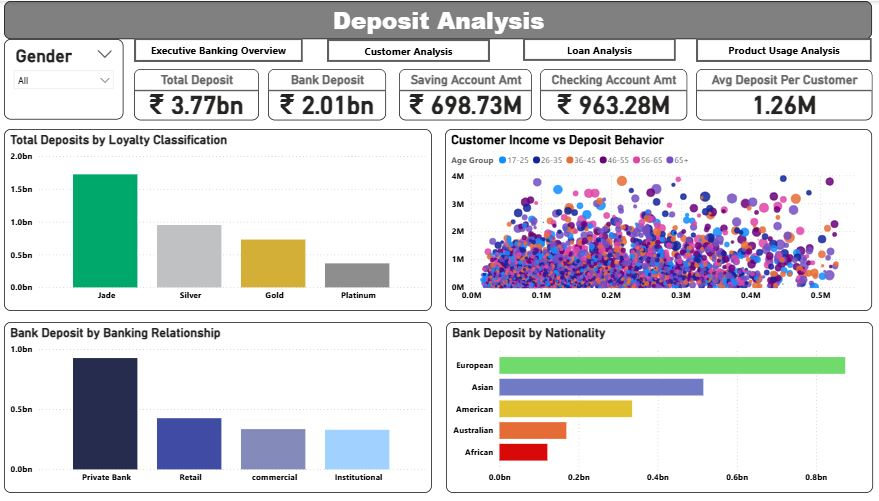

The dashboard page shown, as its layout file describes it:
{"tool":"powerbi","page":{"name":"Deposit Analysis","canvas":[1280,720],"ordinal":3},"visuals":[{"type":"textbox","title":"Deposit Analysis","box":[11.5,0,1249.9,54.7],"z":0},{"type":"card","title":"Total Deposit","fields":{"Values":["Banking.Total Deposits"]},"box":[198.7,97.9,179.7,73.9],"z":1000,"group":"g1"},{"type":"clusteredBarChart","title":"Bank Deposit by Nationality","fields":{"Category":["Banking.Nationality"],"Y":["Banking.Bank Deposits Amt"]},"box":[647.5,462.3,614.8,245.9],"z":1000},{"type":"clusteredColumnChart","title":"Bank Deposit by Banking Relationship","fields":{"Y":["Banking.Bank Deposits Amt"],"Category":["Banking Relationship.Banking Relationship"]},"box":[11.5,462.2,616.3,246.2],"z":2000},{"type":"card","title":"Bank Deposit","fields":{"Values":["Banking.Bank Deposits Amt"]},"box":[391.9,97.9,169.7,73.9],"z":3000,"group":"g1"},{"type":"columnChart","fields":{"Y":["Banking.Total Deposits"],"Category":["Banking.Loyalty Classification"]},"box":[11.5,184.3,616.3,262.1],"z":3000},{"type":"slicer","fields":{"Values":["Gender.Gender"]},"box":[12.1,55.2,172.4,115.5],"z":4000},{"type":"card","title":"Saving Account Amt","fields":{"Values":["Banking.saving Acc Amt"]},"box":[580,97.9,191.5,73.9],"z":5000,"group":"g1"},{"type":"scatterChart","title":"Customer Income vs Deposit Behavior","fields":{"X":["Banking.Estimated Income"],"Y":["Banking.Bank Deposits Amt"],"Size":["All Measure.Bank Loan"],"Series":["Banking.Age Group"]},"box":[646.6,184.3,614.9,262.1],"z":5000},{"type":"actionButton","box":[758.9,53.3,220.3,33.1],"z":6000},{"type":"card","title":"Checking Account Amt","fields":{"Values":["Banking.Checking Acc Amt"]},"box":[783.3,97.9,211.7,73.9],"z":6000,"group":"g1"},{"type":"actionButton","box":[1008,53.3,253.4,34.6],"z":7000},{"type":"actionButton","box":[476.6,54.7,234.7,33.1],"z":8000},{"type":"actionButton","box":[198.7,53.3,243.4,34.6],"z":9000},{"type":"card","title":"Avg Deposit Per Customer","fields":{"Values":["All Measure.Avg Deposit Per customer"]},"box":[1008.4,97.9,253.6,73.9],"z":9000,"group":"g1"},{"type":"group","id":"g1","title":"Group 1","box":[198.7,97.9,1062.7,73.4],"z":10000}]}

Visuals, with their boxes in screenshot pixels (x1, y1, x2, y2), scaled from the page's 1280x720 canvas onto the 879x501 screenshot:
"Deposit Analysis" textbox: [8, 0, 866, 38]
"Total Deposit" card: [136, 68, 260, 120]
"Bank Deposit by Nationality" clusteredBarChart: [445, 322, 867, 493]
"Bank Deposit by Banking Relationship" clusteredColumnChart: [8, 322, 431, 493]
"Bank Deposit" card: [269, 68, 386, 120]
columnChart - Banking.Total Deposits x Banking.Loyalty Classification: [8, 128, 431, 311]
slicer - Gender.Gender: [8, 38, 127, 119]
"Saving Account Amt" card: [398, 68, 530, 120]
"Customer Income vs Deposit Behavior" scatterChart: [444, 128, 866, 311]
actionButton: [521, 37, 672, 60]
"Checking Account Amt" card: [538, 68, 683, 120]
actionButton: [692, 37, 866, 61]
actionButton: [327, 38, 488, 61]
actionButton: [136, 37, 304, 61]
"Avg Deposit Per Customer" card: [692, 68, 867, 120]
"Group 1" group: [136, 68, 866, 119]
